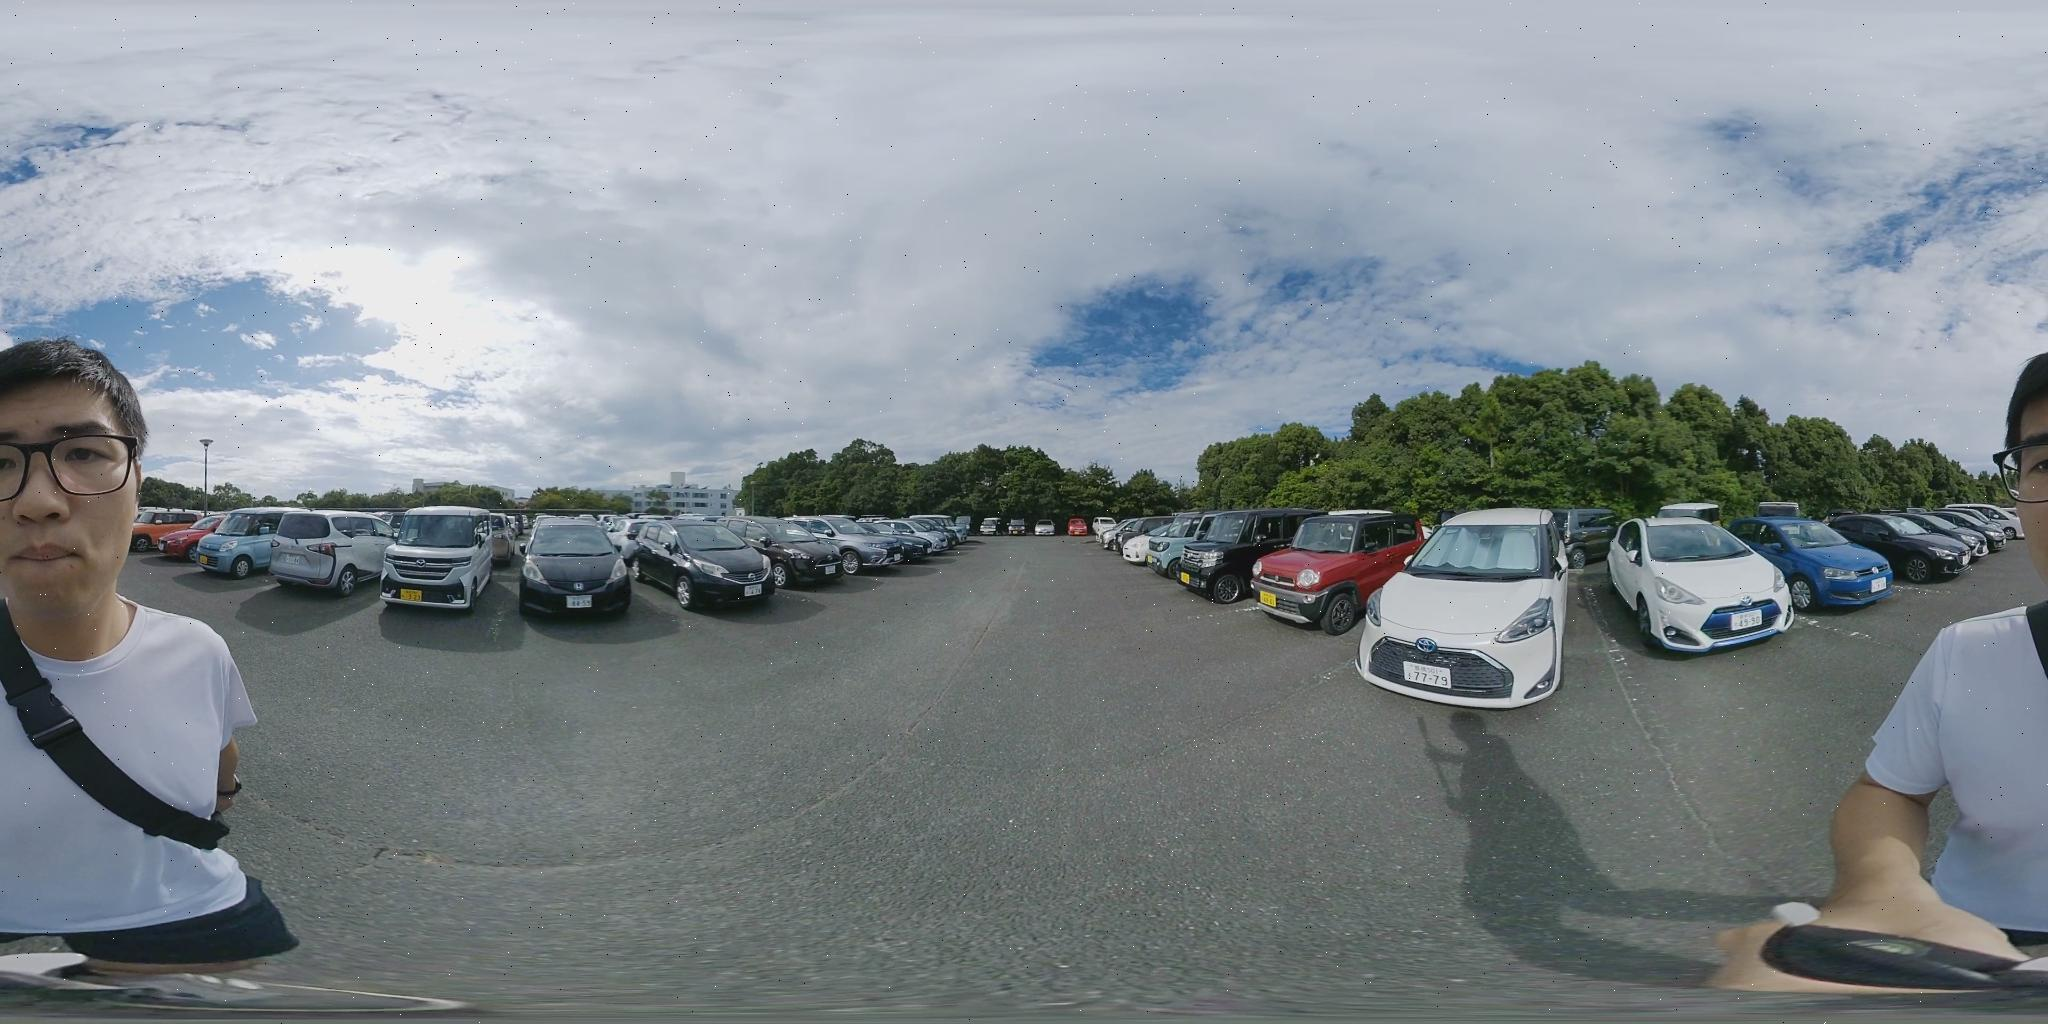car: (1353, 509, 1591, 705), (1610, 515, 1804, 657), (1253, 512, 1434, 635), (1732, 521, 1899, 611), (624, 521, 790, 609), (1159, 511, 1324, 597), (192, 511, 384, 583), (377, 508, 507, 607), (516, 520, 636, 620), (1831, 512, 1985, 580), (738, 519, 865, 581), (1108, 515, 1196, 564), (129, 508, 217, 556), (1933, 508, 2027, 550)
